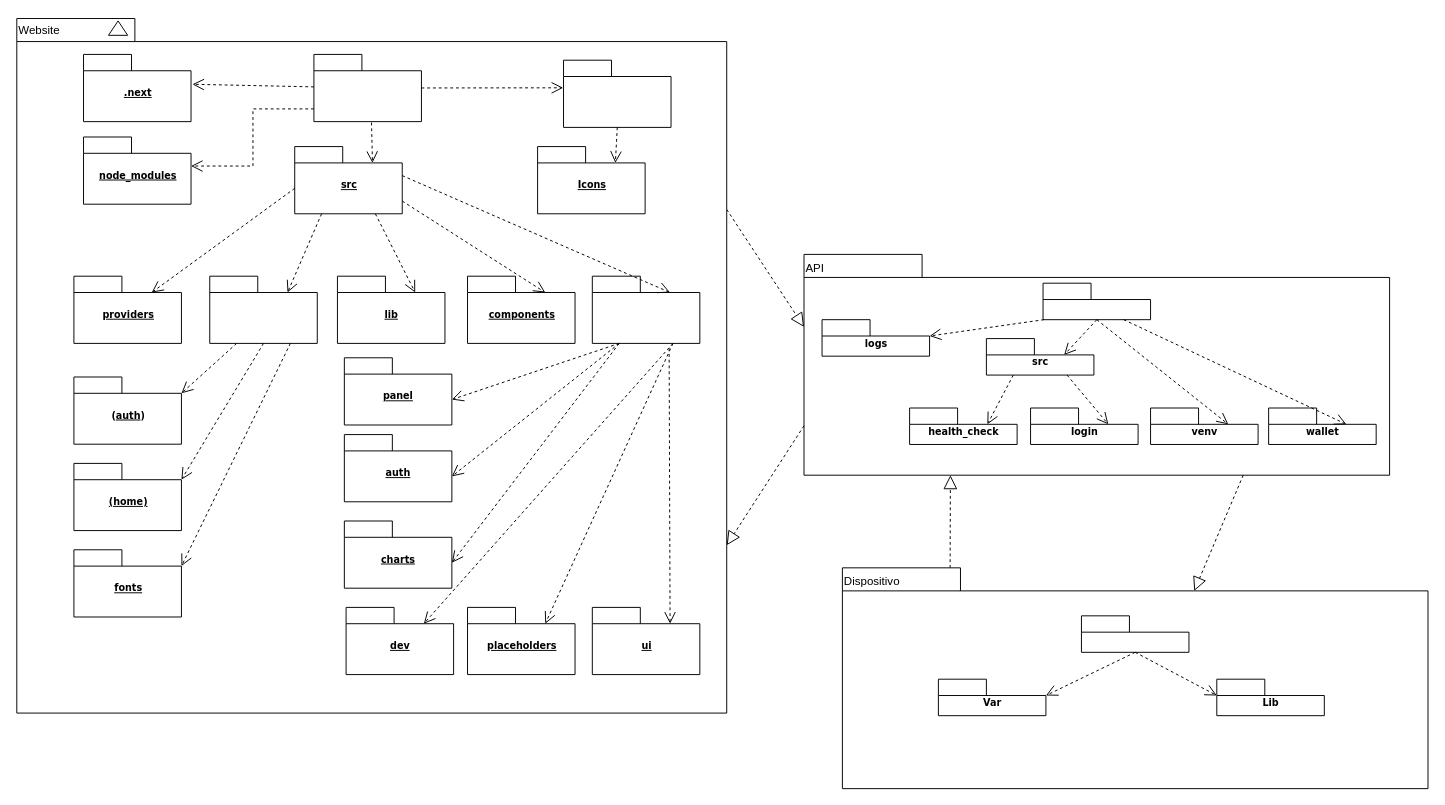
Image size: 1445x805. Some labels were removed from this diagram. Here are the shapes that lost their labels. From the top down, the box of each, then its label:
(313, 53, 421, 122): Frontend
(563, 59, 671, 127): public
(209, 275, 317, 343): app
(591, 275, 700, 343): hooks
(1042, 282, 1151, 320): Backend
(1080, 615, 1189, 652): Hardware
